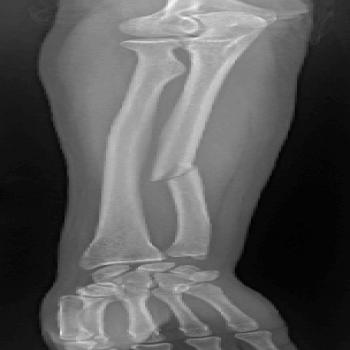Fracture: (146, 160, 230, 188)
